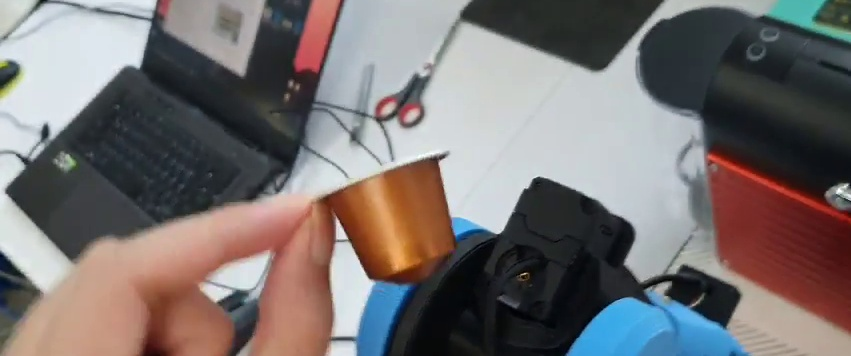capsule_3: (312, 148, 460, 286)
